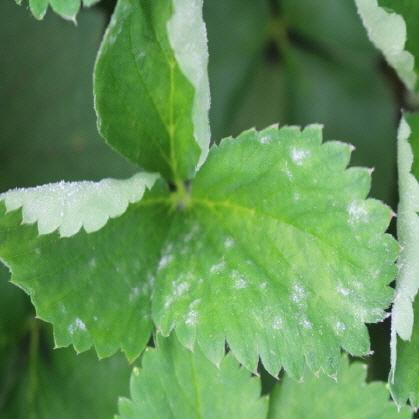Powdery Mildew Leaf: (148, 121, 407, 384), (0, 170, 182, 367), (92, 0, 212, 189), (386, 110, 418, 413), (352, 0, 418, 93)
